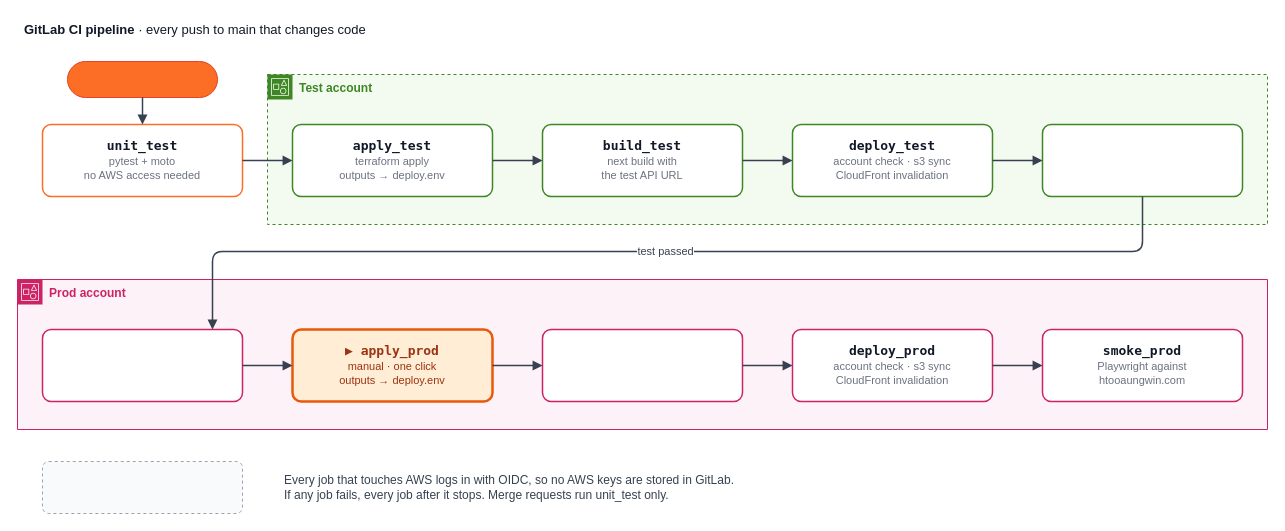
The diagram is 1285 pixels wide and 531 high, and some of its shapes have lost their labels. The shapes that lost their labels are listed below. From the top down, each one's centre as x and y in pixels, then its label:
At (x=142, y=79): "git push to main".
At (x=1142, y=160): "smoke_test Playwright 5 browser tests".
At (x=142, y=365): "plan_prod terraform plan I read the diff".
At (x=642, y=365): "build_prod next build with the prod API URL".
At (x=142, y=487): "destroy_test manual, runs on its own".
